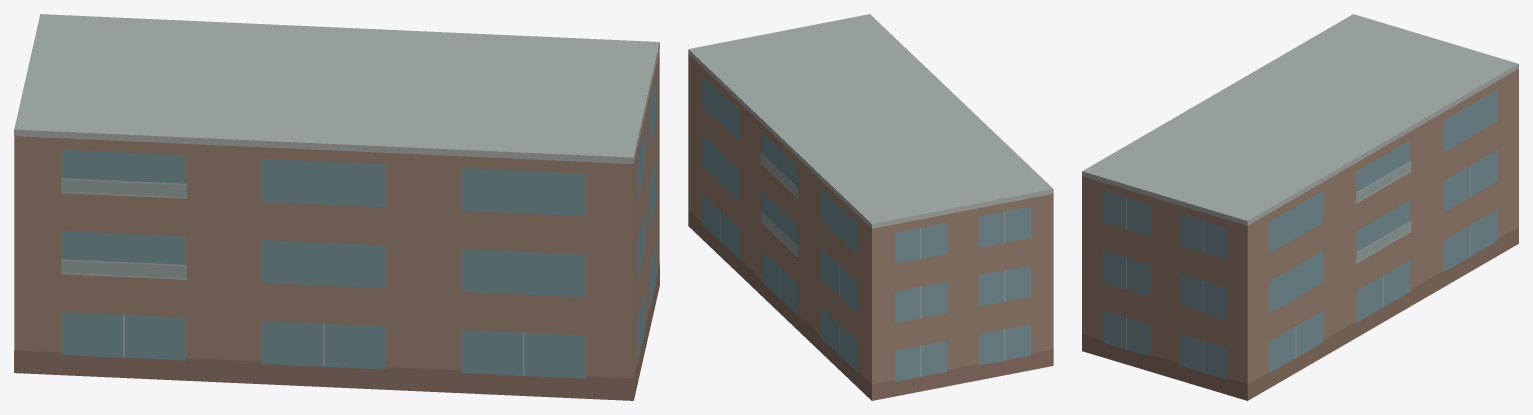
File: survey-upis-32551048.glb
3 renders of one model, left to right at view 1: azimuth 30°, elevation 25°; view 2: azimuth 150°, elevation 25°; view 3: azimuth 270°, elevation 25°, orthographic. The views are drawn at different scales.
Visible parts, largest first — view 1: survey-upis-32551048.tmp; view 2: survey-upis-32551048.tmp; view 3: survey-upis-32551048.tmp.
Part boxes in pixels (x1=…): survey-upis-32551048.tmp: x1=14, y1=14, x2=659, y2=400; survey-upis-32551048.tmp: x1=688, y1=14, x2=1053, y2=400; survey-upis-32551048.tmp: x1=1082, y1=14, x2=1518, y2=400.
Bounding box in the file's own units: 22.6 × 9.15 × 20.15.
